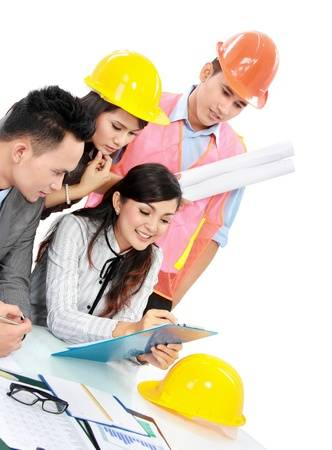casco: (136, 352, 247, 430), (82, 47, 172, 128), (214, 28, 281, 111)
